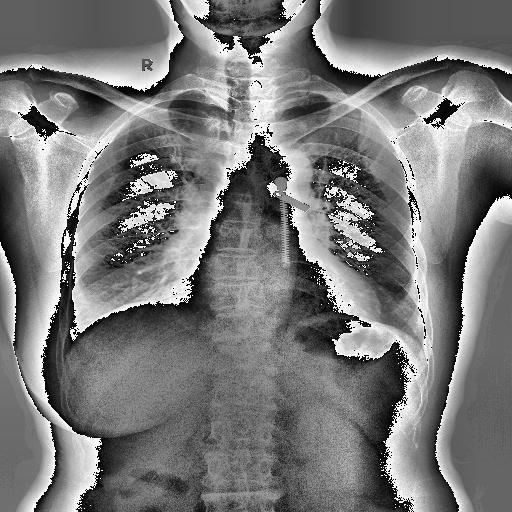0- Aortic enlargement: (255, 146, 312, 196)
3- Cardiomegaly: (182, 256, 382, 324), (174, 262, 380, 320), (182, 269, 384, 323)
